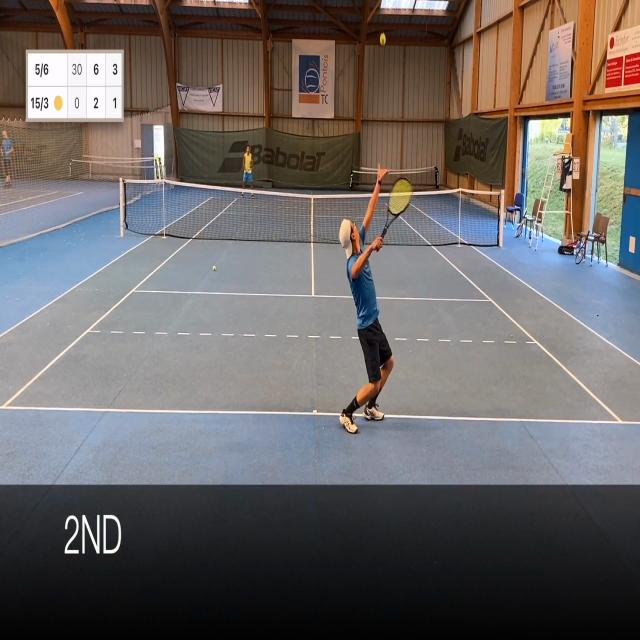ball: (378, 31, 387, 48), (211, 265, 218, 272)
